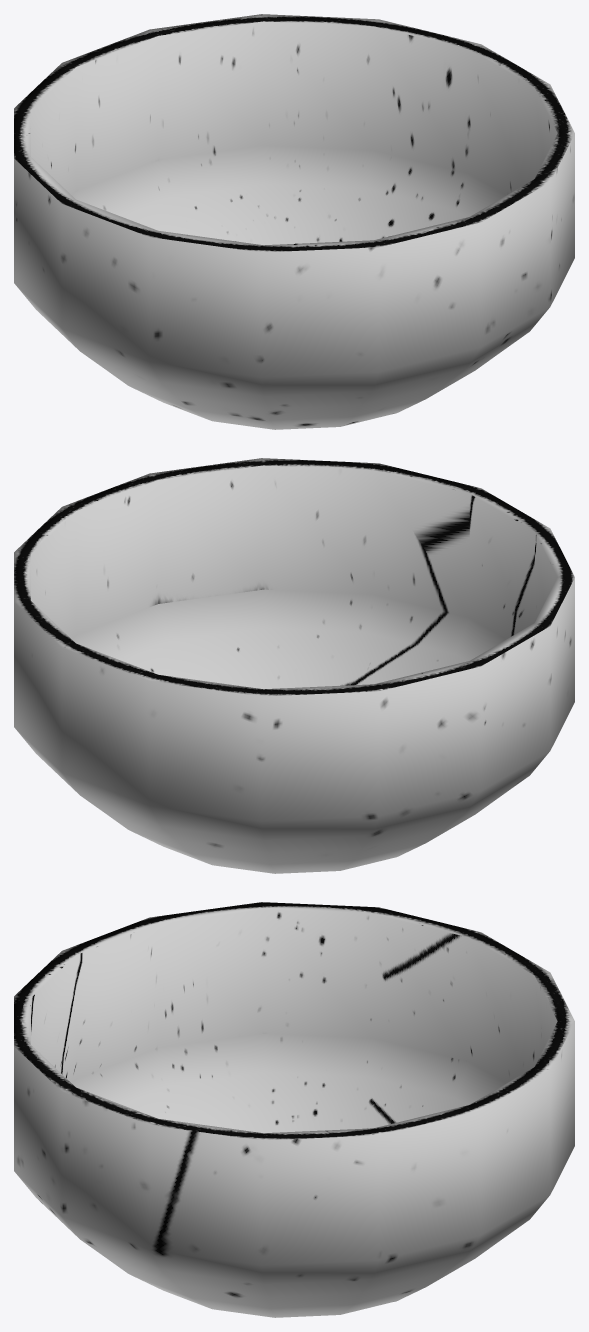
The model's file is Bowls.obj.
The picture shows the model from 3 angles, top to bottom: view 1: azimuth 30°, elevation 25°; view 2: azimuth 150°, elevation 25°; view 3: azimuth 270°, elevation 25°; orthographic projection.
Parts seen in each view (by area): view 1: BowlEmpty; view 2: BowlEmpty; view 3: BowlEmpty.
Boxes of the visible parts, bbox=[...] form: BowlEmpty: bbox=[14, 14, 574, 429]; BowlEmpty: bbox=[14, 458, 574, 873]; BowlEmpty: bbox=[14, 902, 574, 1317].
Size of the model in its own units: 1.99 by 0.8949 by 1.98.
